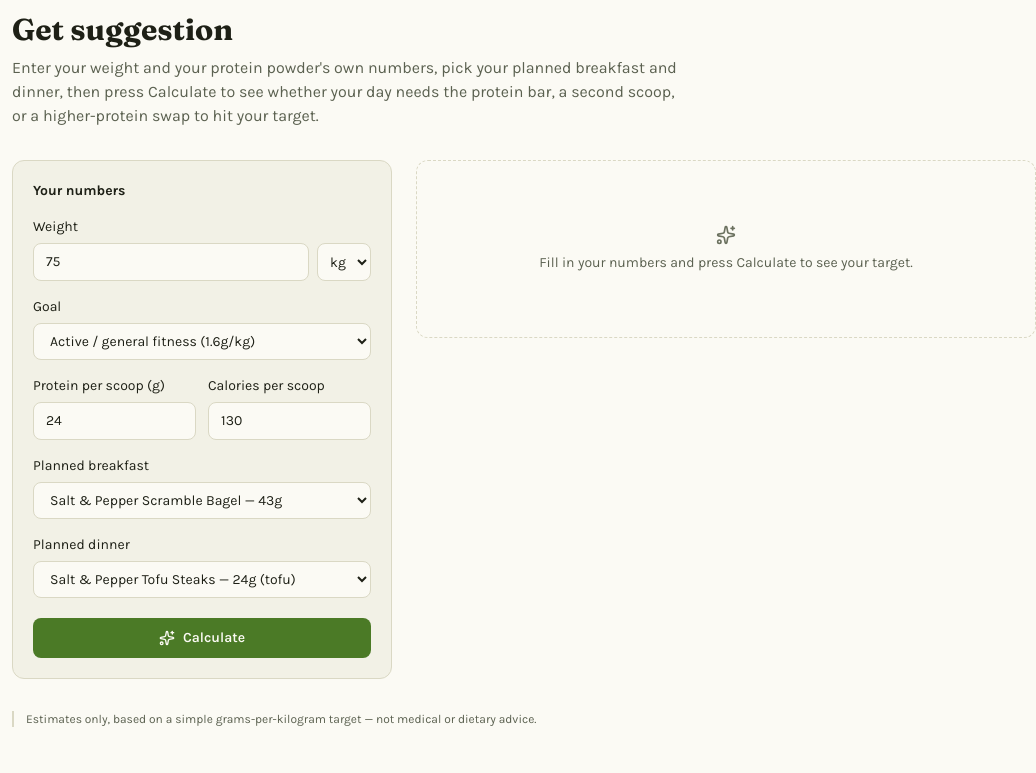
Suggestion › computes the target only after pressing Calculate
Click the button "Calculate".
click(202, 638)  # box x1=33 y1=618 x2=371 y2=658
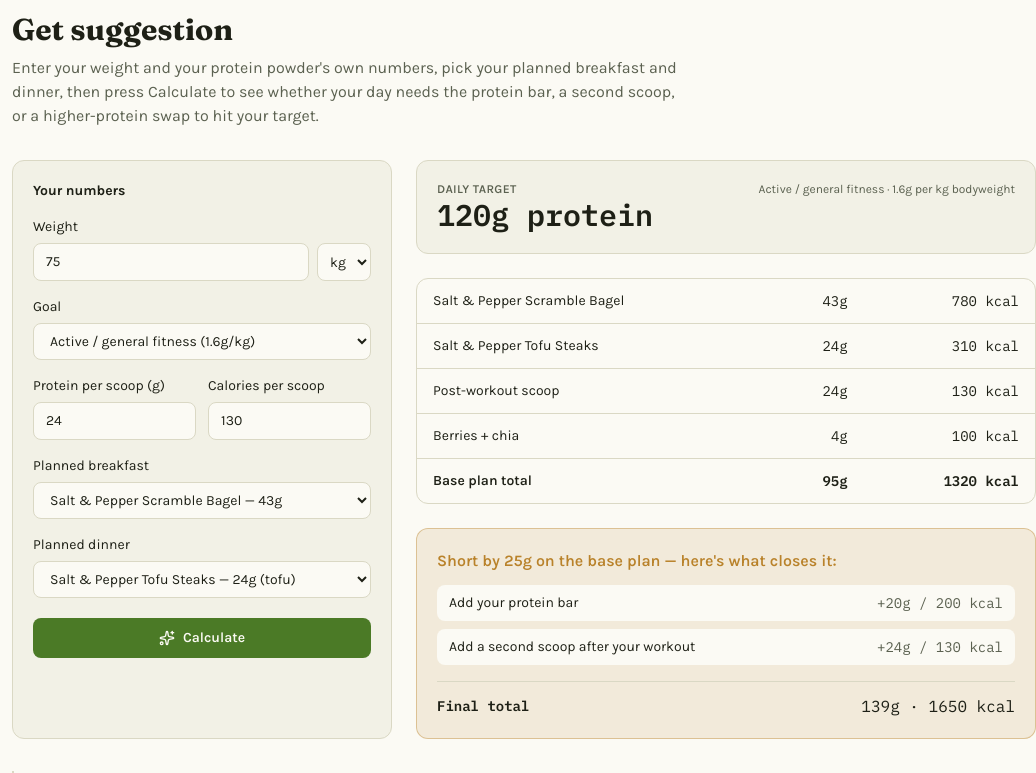
expect the text "120g protein" is shown: met, box x1=437 y1=197 x2=653 y2=233
